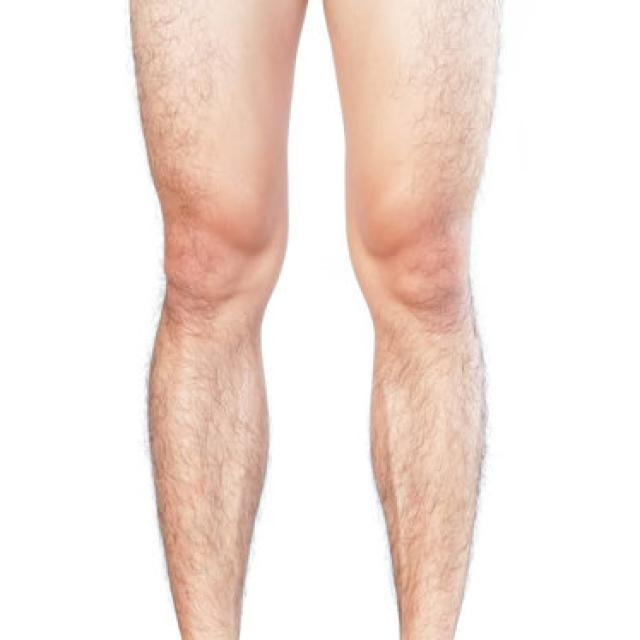Normal: (127, 132, 534, 568)
